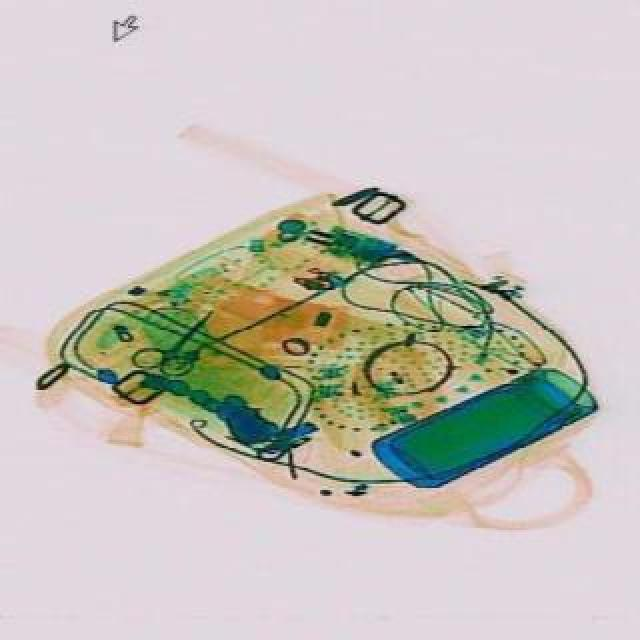pliers: (124, 296, 230, 396)
